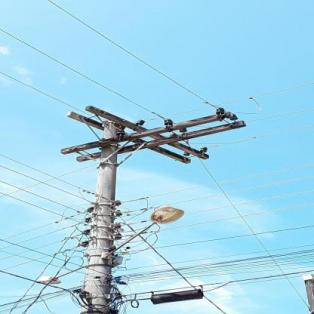Poste: (72, 120, 132, 314)
